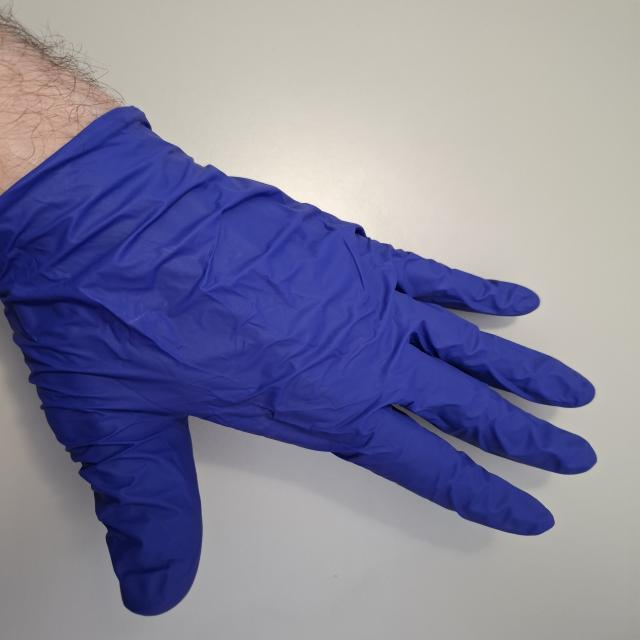glove_on: (0, 104, 604, 622)
